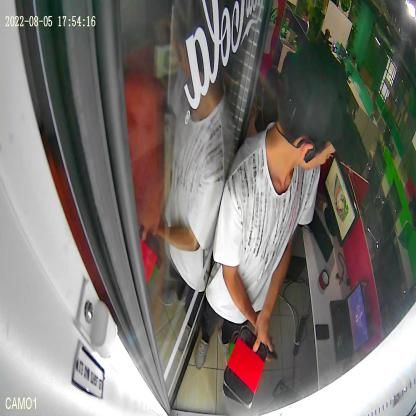green: (222, 331, 248, 406)
red: (223, 324, 267, 408)
